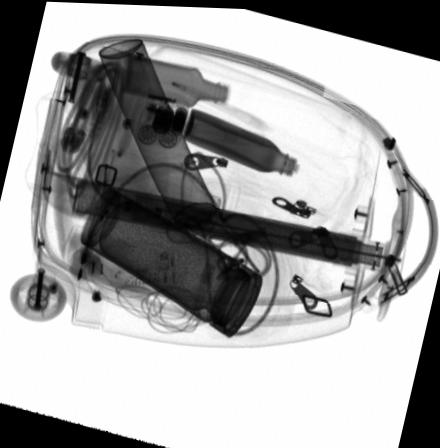Sprayer: (98, 37, 227, 246)
